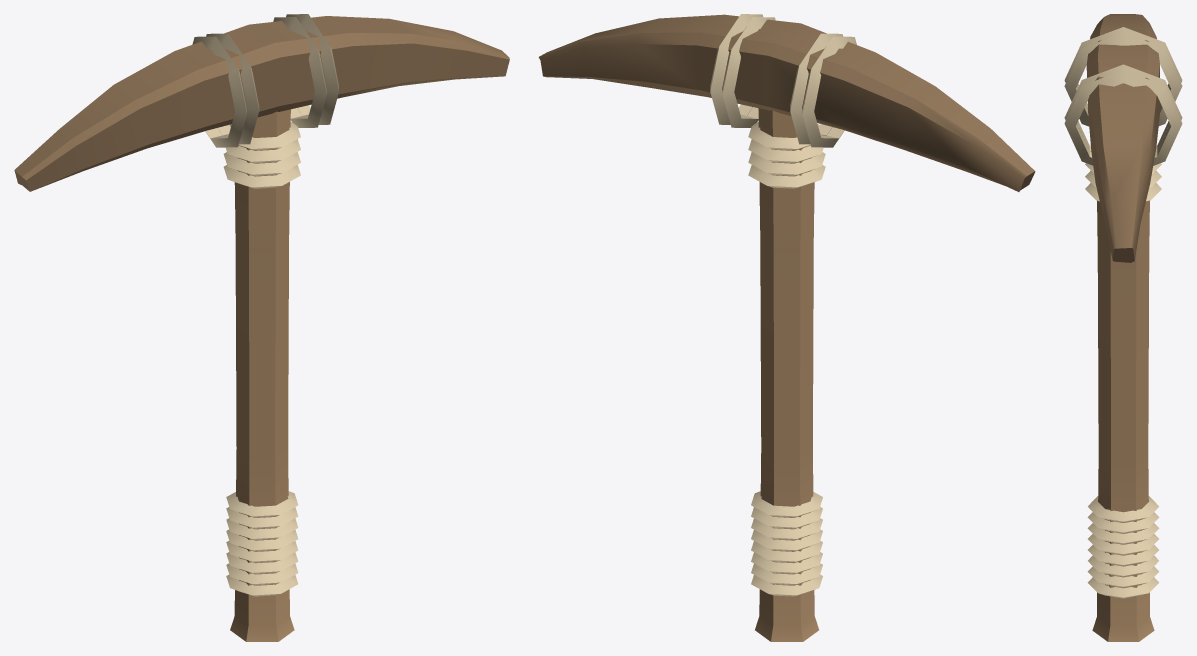
File: WoodPickaxe.fbx
3 renders of one model, left to right at view 1: azimuth 30°, elevation 25°; view 2: azimuth 150°, elevation 25°; view 3: azimuth 270°, elevation 25°, orthographic. The views are drawn at different scales.
Parts seen in each view (by area): view 1: WoodPickaxe; view 2: WoodPickaxe; view 3: WoodPickaxe.
Part boxes in pixels (x1,y1,x2,y2): WoodPickaxe: (14, 14, 509, 641); WoodPickaxe: (538, 14, 1035, 641); WoodPickaxe: (1064, 14, 1182, 641).
Size of the model in its own units: 0.6112 by 0.7235 by 0.133.
